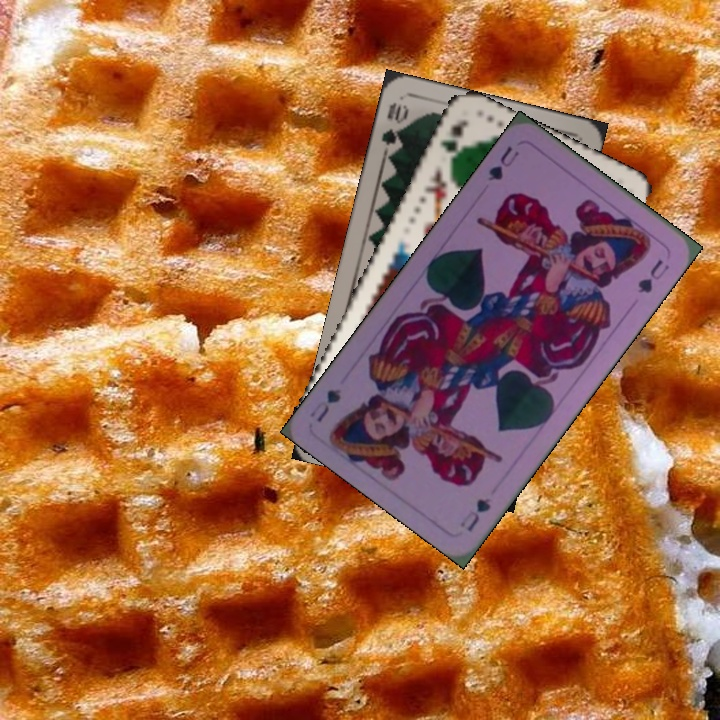G10: (377, 98, 412, 157)
GK: (435, 115, 472, 168)
GU: (483, 142, 522, 184), (455, 494, 494, 534)
